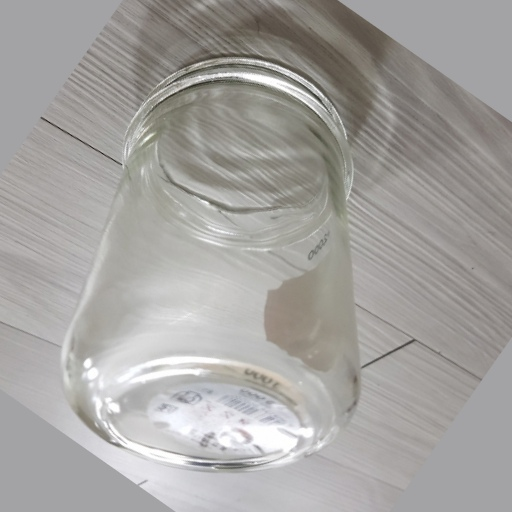Glass_5: (58, 60, 360, 471)
